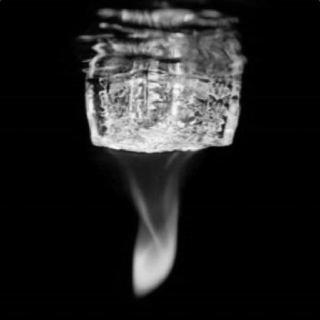Fire: (86, 138, 207, 304)
